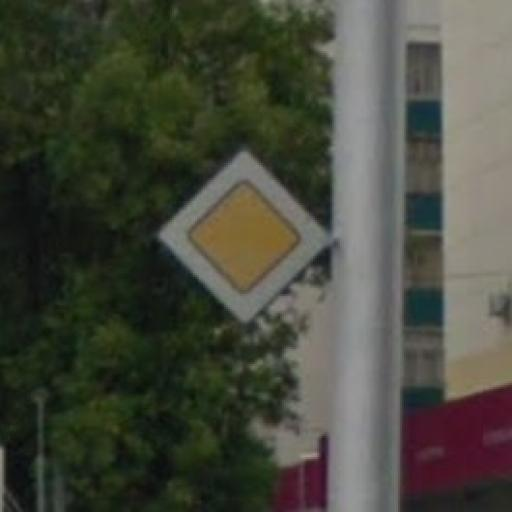traffic_sign: (154, 149, 341, 329)
